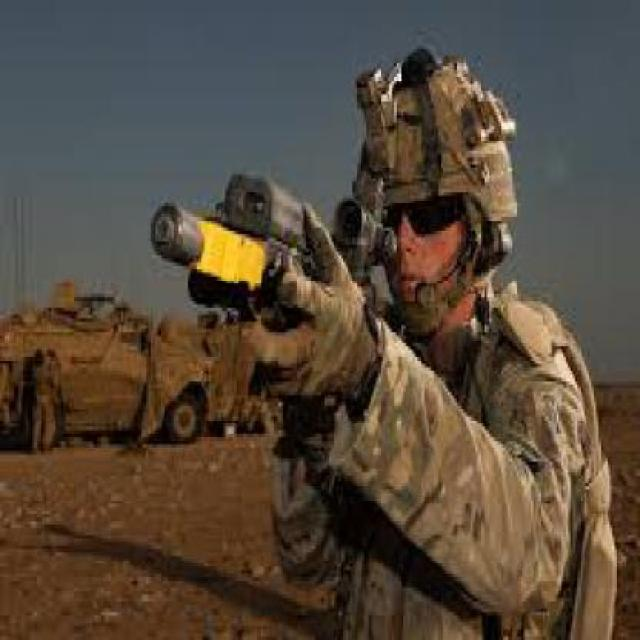MIL_Pax: (262, 46, 610, 636)
